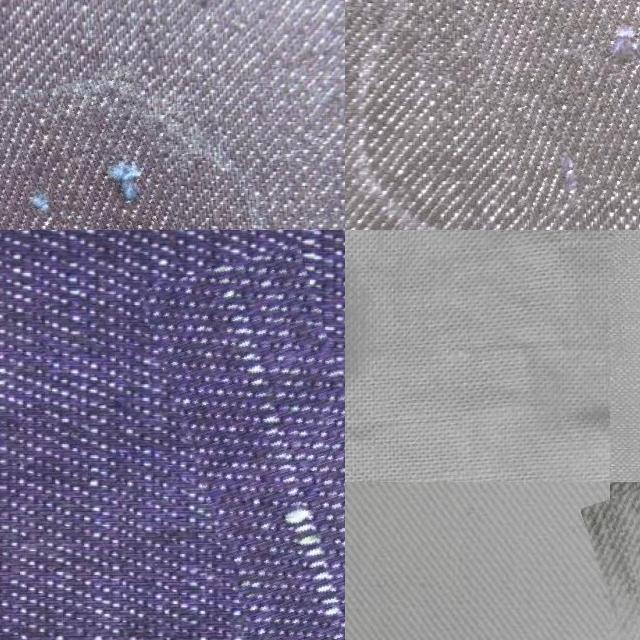Thread_other: (345, 230, 393, 434)
stains: (181, 246, 345, 640), (455, 0, 640, 201), (0, 83, 206, 230)
